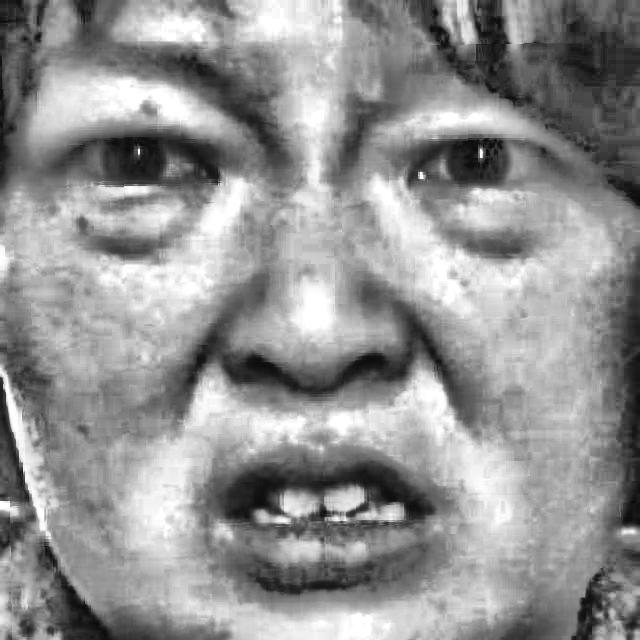angry: (4, 44, 589, 640)
